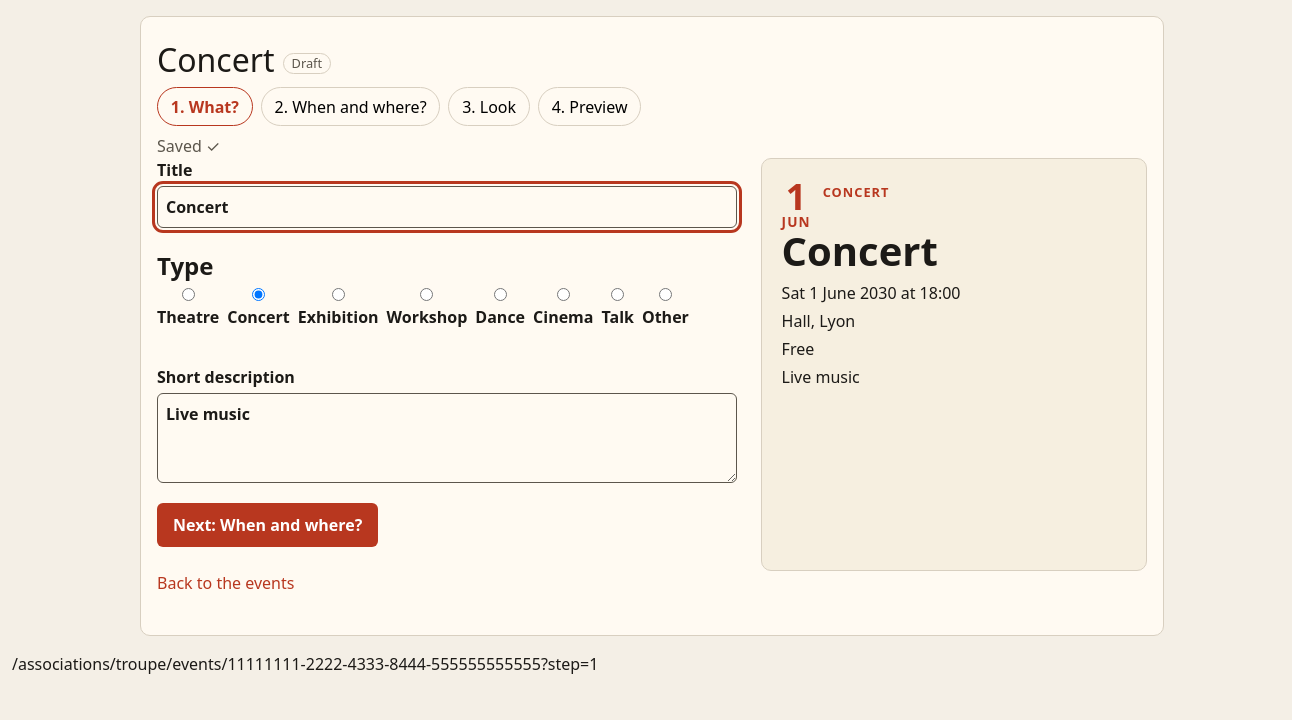
Scenario: create and save (UC15, UC16) › CC3: a network failure keeps the input and Retry sends the same change
Check: the navigation bar named "Steps" is shown, box [157,87,641,126]
Replace the text in the field labelled "Title" with "Kept" at (447, 207), box [157,186,737,228]
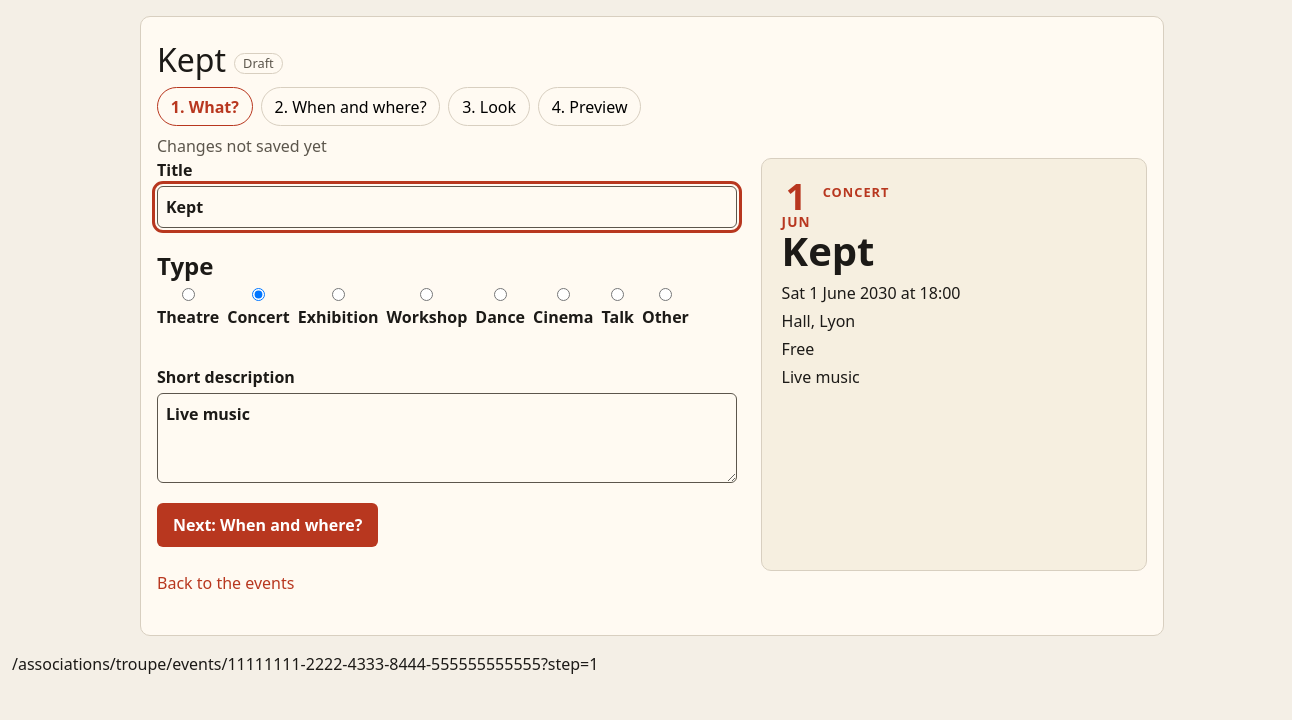
Leave the field labelled "Title", box [157,186,737,228]
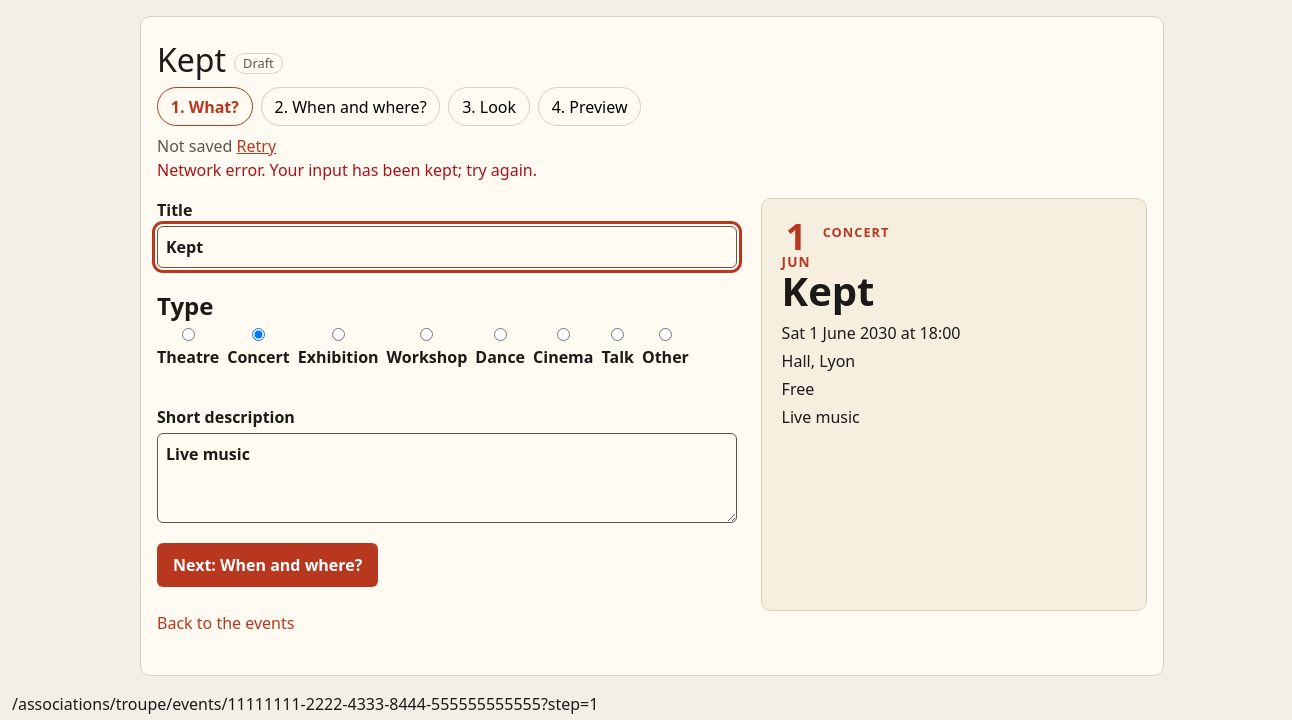
Check: the text "Network error. Your input has been kept; try again." is shown, box [157,159,537,181]
Click the button "Retry" at (256, 146), box [237,134,276,158]
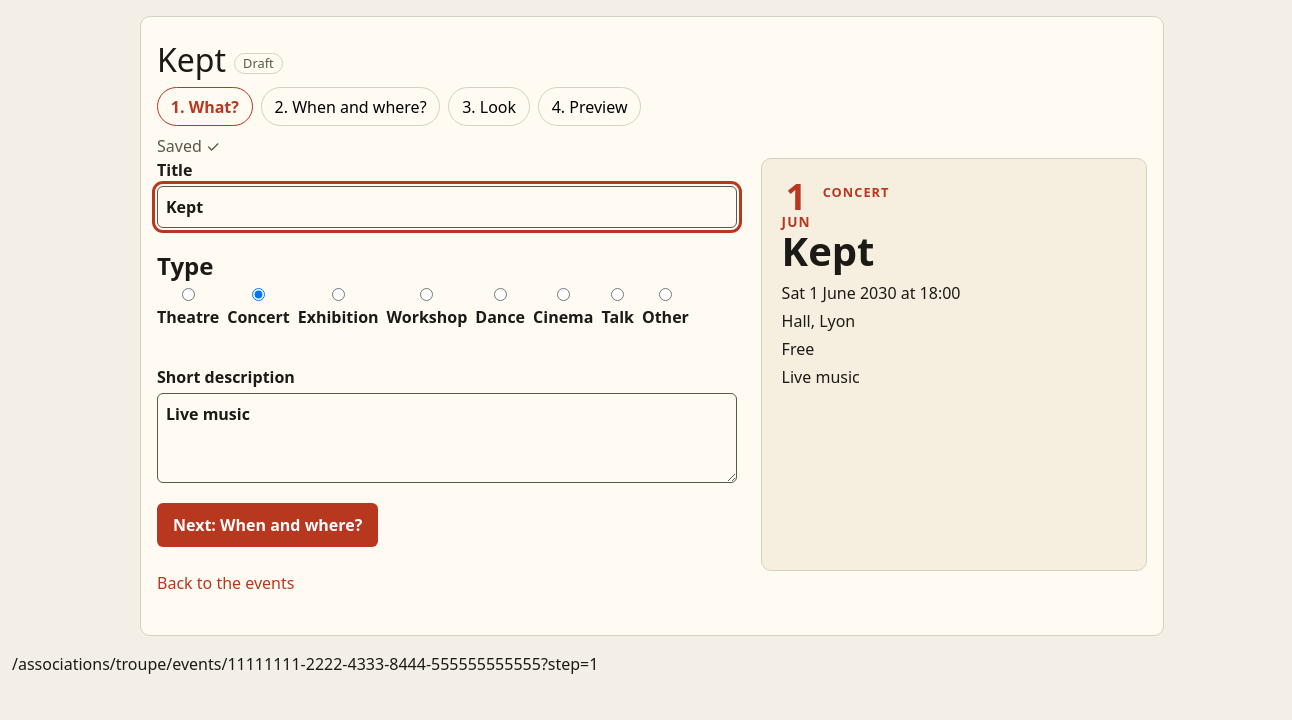
Check: the text "Saved ✓" is shown, box [157,135,220,157]
